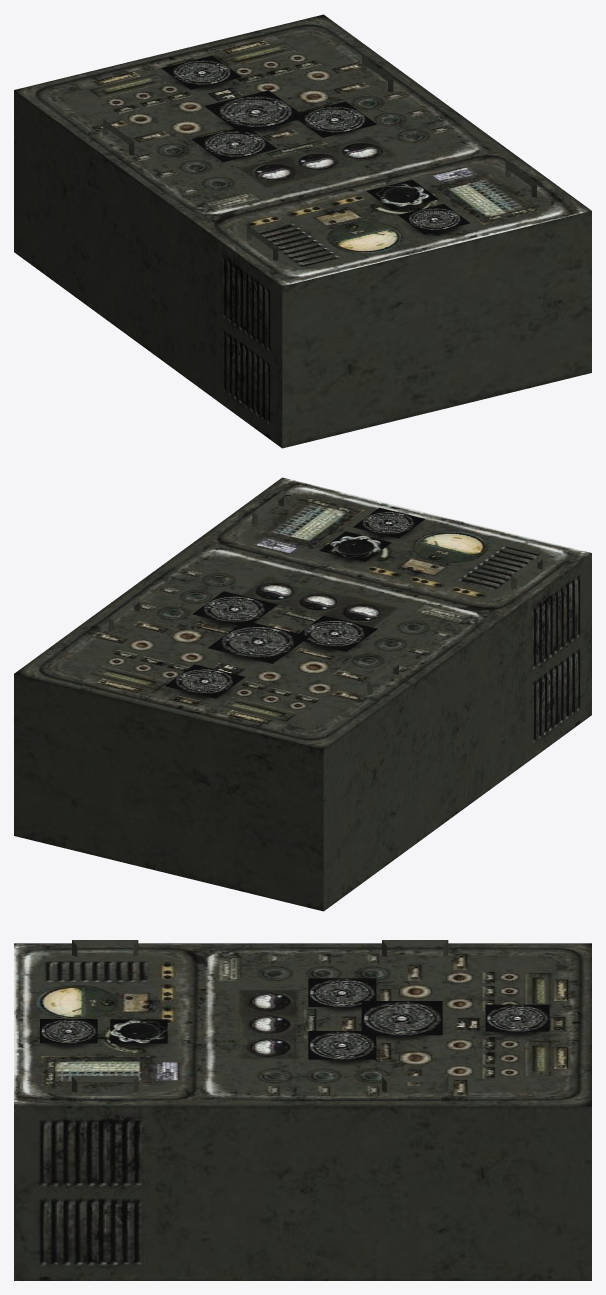
File: military_german_radio2_green.glb
The picture shows the model from 3 angles, top to bottom: view 1: azimuth 30°, elevation 25°; view 2: azimuth 150°, elevation 25°; view 3: azimuth 270°, elevation 25°; orthographic projection. The views are drawn at different scales.
Size of the model in its own units: 24.43 by 13.29 by 36.64.
3 materials, 3 textured.
